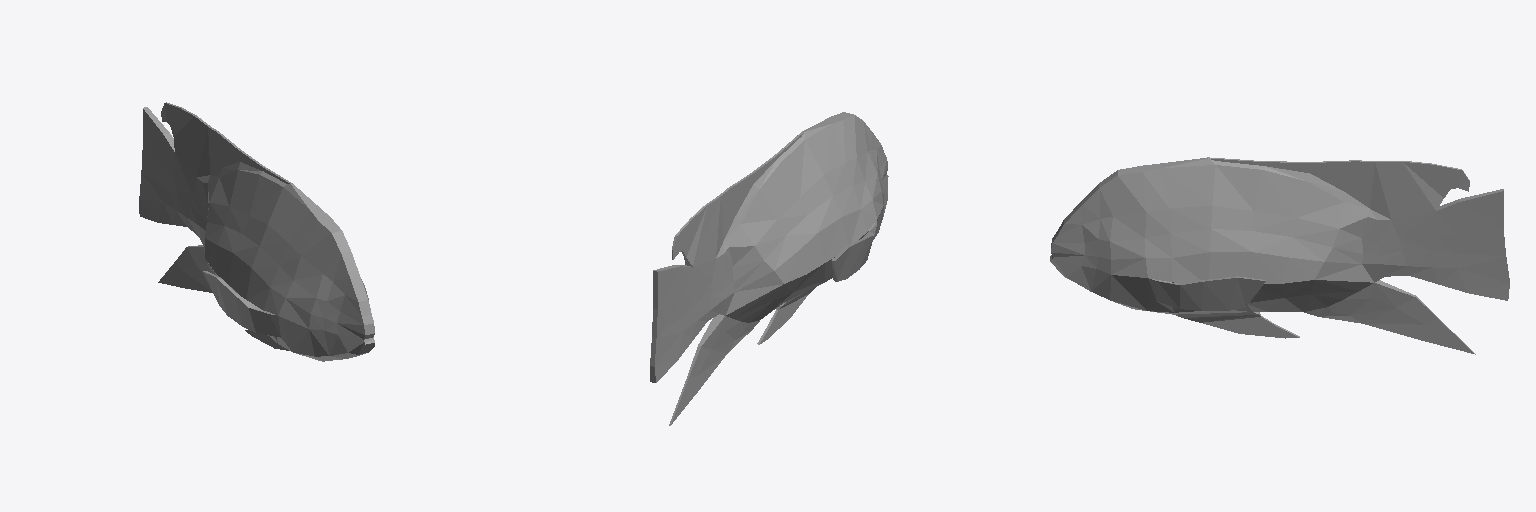
File: TropicalFish03.obj
3 renders of one model, left to right at view 1: azimuth 30°, elevation 25°; view 2: azimuth 150°, elevation 25°; view 3: azimuth 270°, elevation 25°, orthographic.
Visible parts, largest first — view 1: TropicalFish03; view 2: TropicalFish03; view 3: TropicalFish03.
Part boxes in pixels (x1,y1,x2,y2): TropicalFish03: (139,102,374,361); TropicalFish03: (650,112,888,425); TropicalFish03: (1050,157,1509,354).
Bounding box in the file's own units: 147 × 227 × 482.